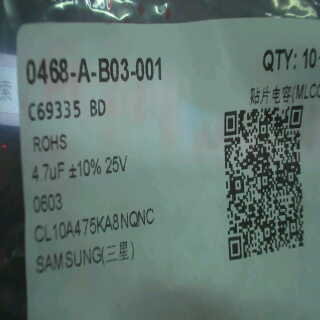4.7uF: (30, 158, 68, 185)
